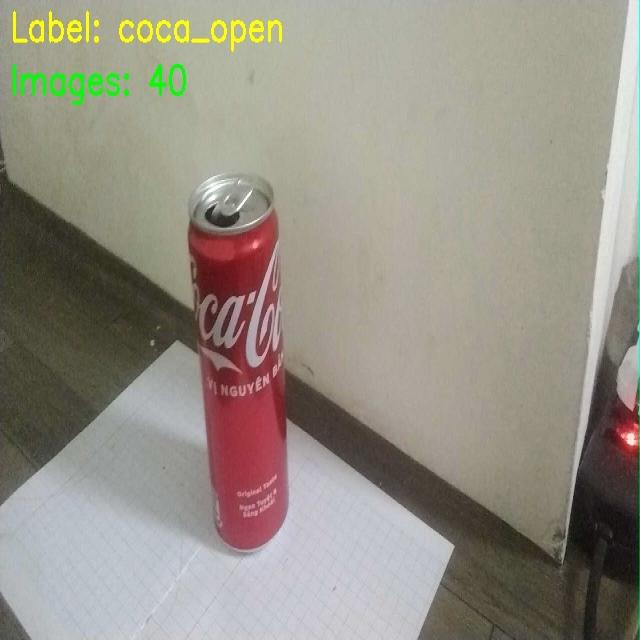Coca_open: (180, 162, 309, 566)
